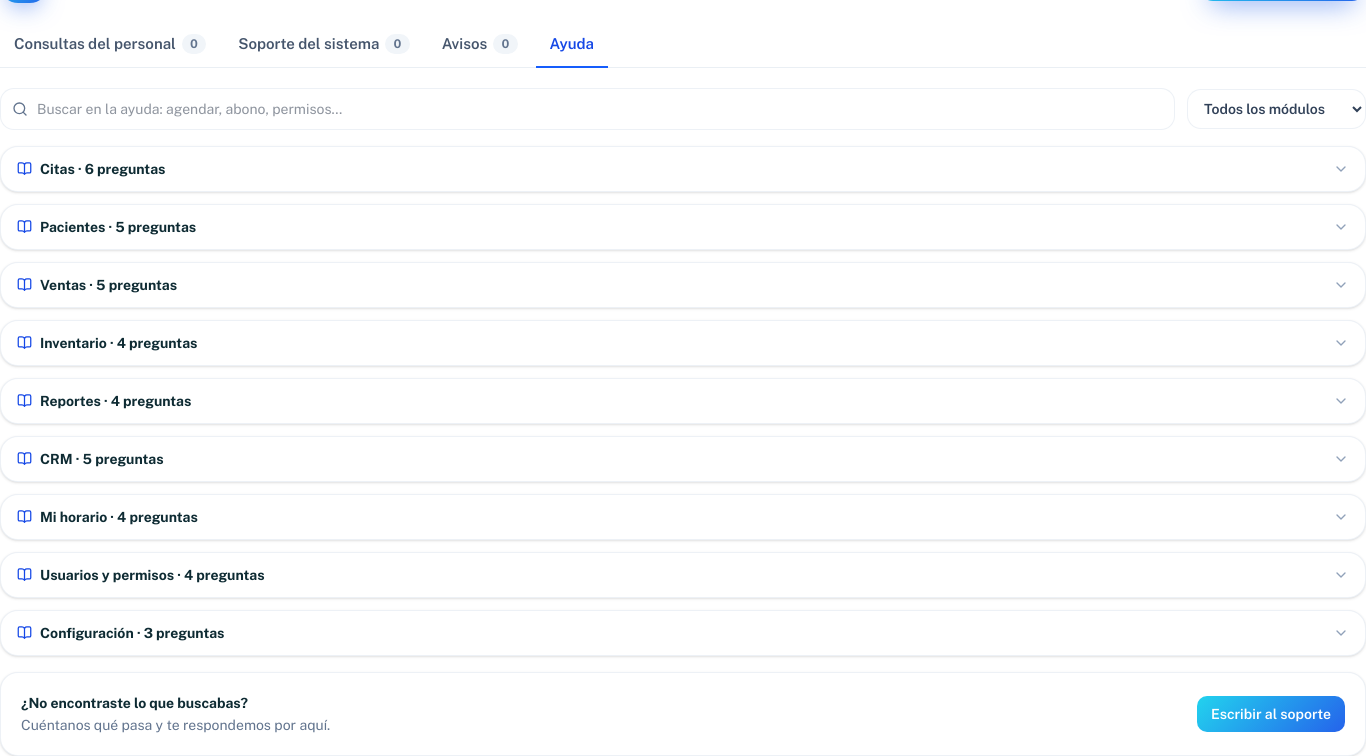
Soporte: Ayuda › al final: «¿No encontraste lo que buscabas?» con la acción de escribir
(page scrolled)
Expected: the text "¿No encontraste lo que buscabas?" is shown, [21,694,248,710]
Click the button "Escribir al soporte": x=1271, y=714 [1197,696,1345,732]
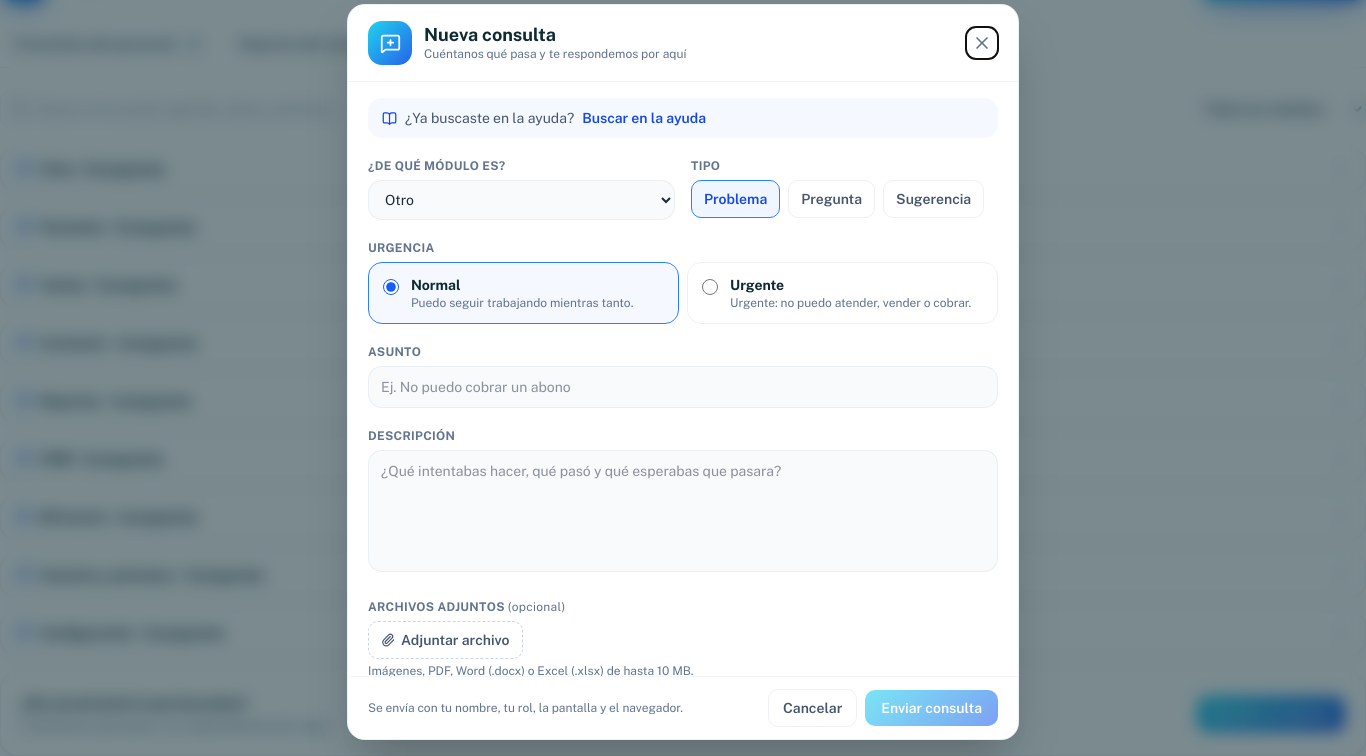
Expected: the dialog "Nueva consulta" is shown, [347,4,1019,740]
